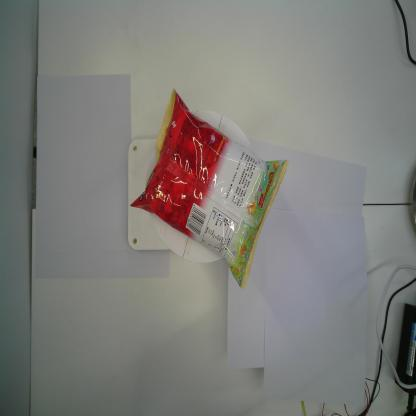Puffed Food: (129, 88, 290, 291)
